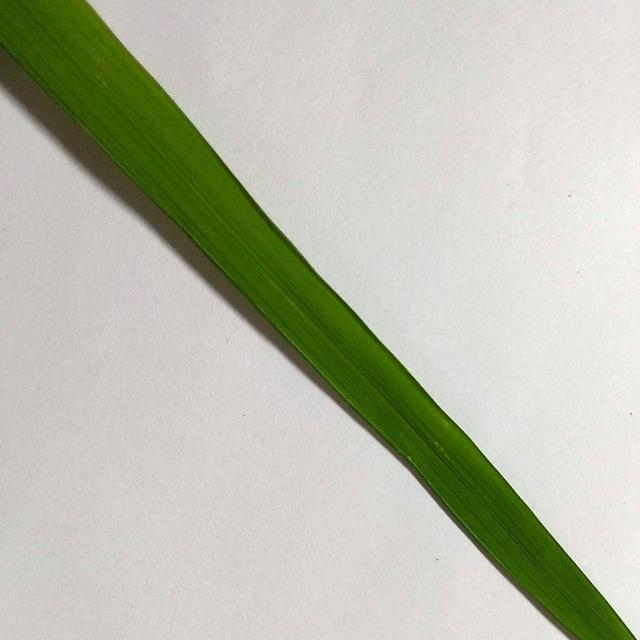Rice_Healthy: (0, 0, 635, 640)
